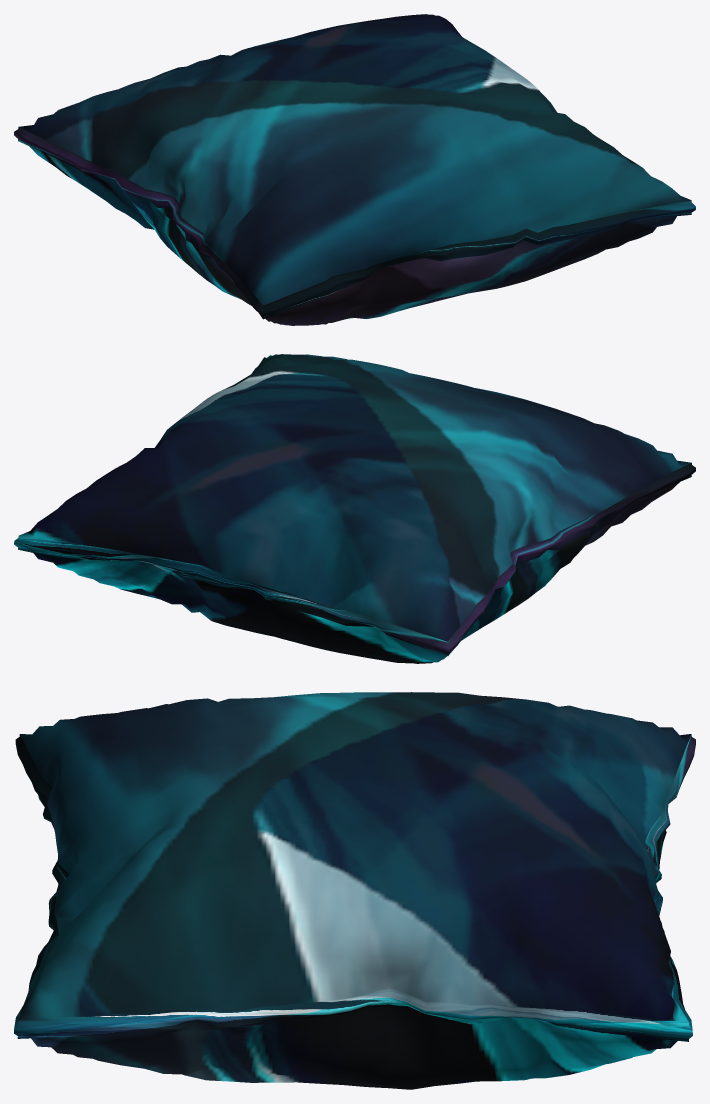
3 views of the same model, one above another, from view 1: azimuth 30°, elevation 25°; view 2: azimuth 150°, elevation 25°; view 3: azimuth 270°, elevation 25° (orthographic). The views are drawn at different scales.
Visible parts, largest first — view 1: Cube; view 2: Cube; view 3: Cube.
Boxes of the visible parts, x1,y1,x2,y2 form: Cube: (14,14,695,325); Cube: (14,354,695,663); Cube: (14,692,695,1089).
Bounding box in the file's own units: 1.95 × 0.8063 × 1.92.
1 material, 1 textured.
